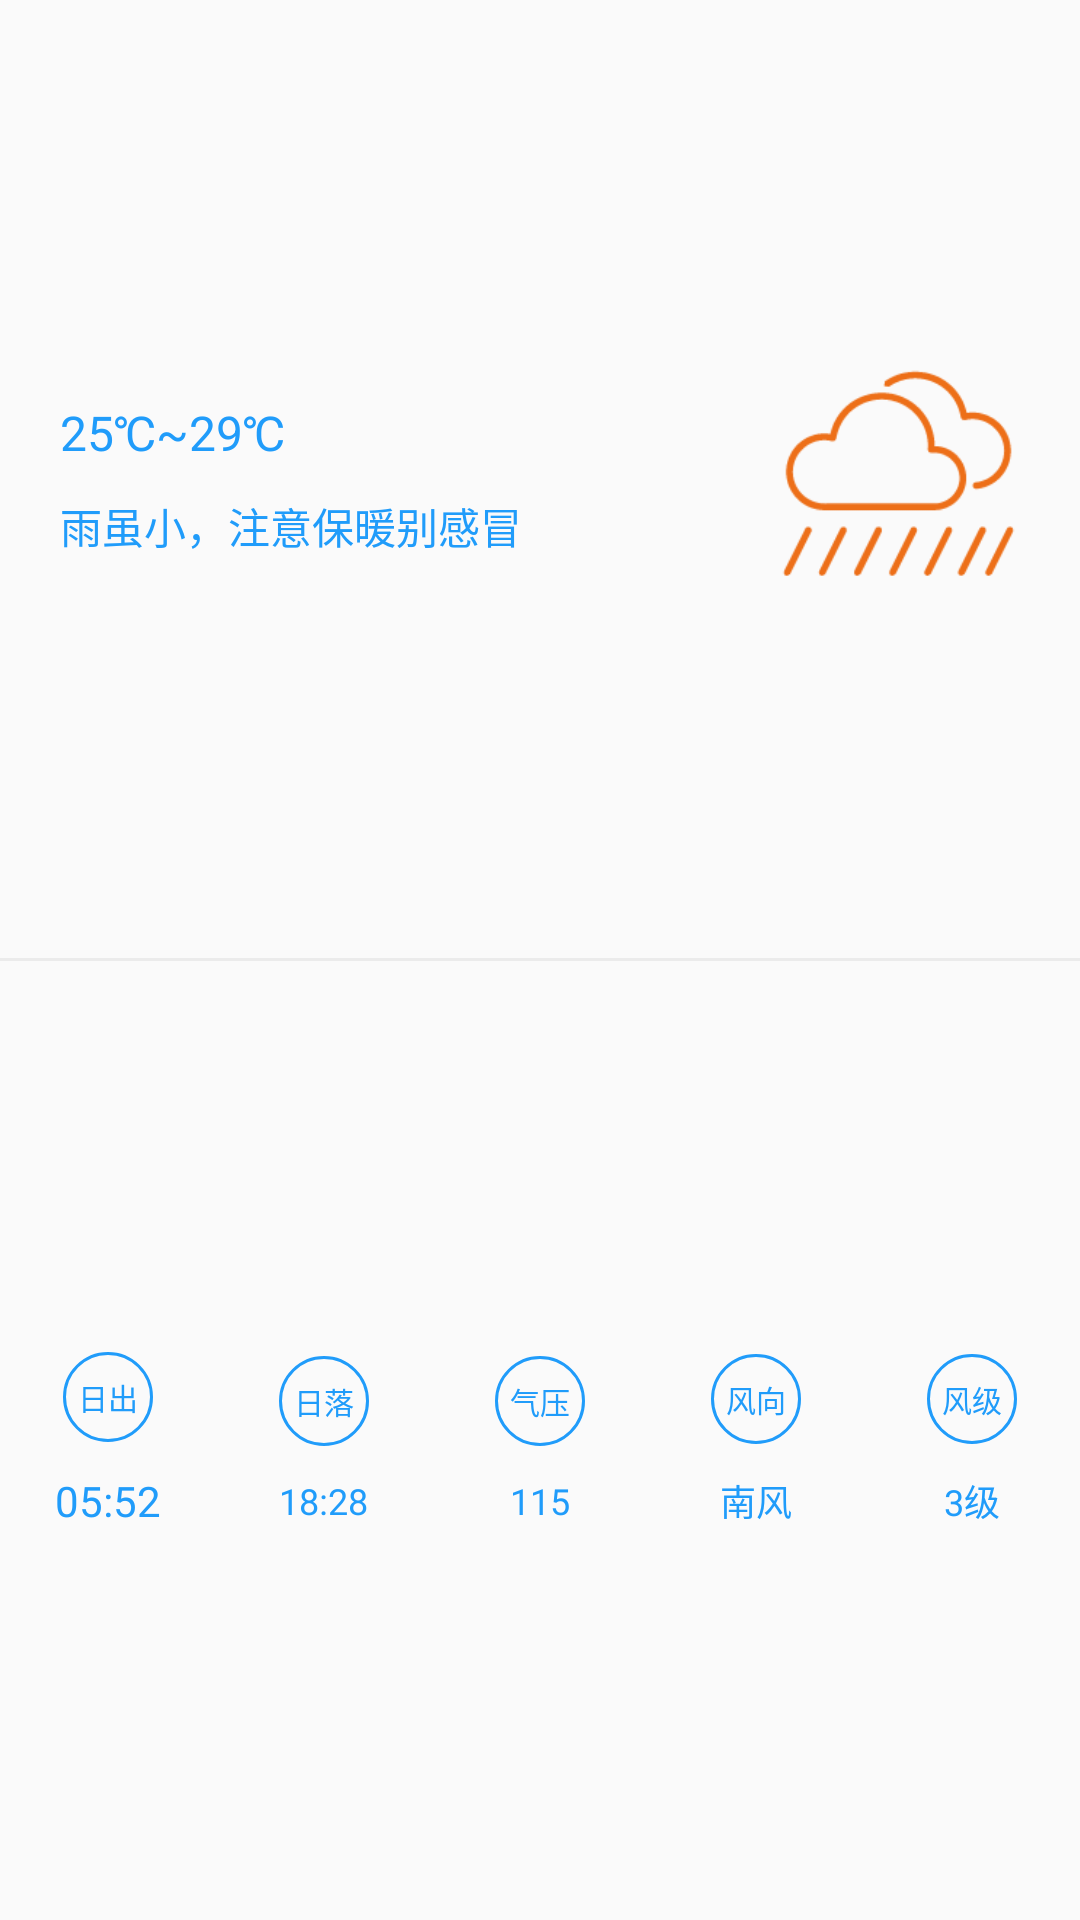

Icons on this 1080px×1920px Android screen, each with the point to tap as [x,y]:
bigest rain: [898,473]
